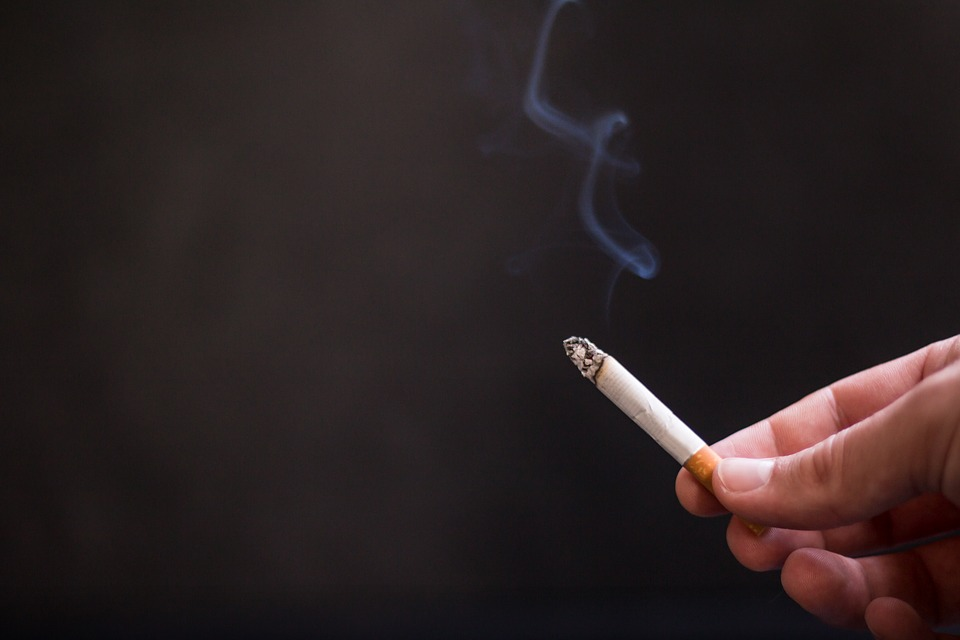cigarette: (547, 321, 772, 539)
